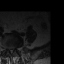CCS_severe_stenosis: (10, 48, 12, 54)
LFS_severe_stenosis: (14, 46, 16, 51)
LLS_severe_stenosis: (12, 47, 14, 52)
RFS_severe_stenosis: (7, 46, 9, 52)
RLS_severe_stenosis: (9, 47, 10, 53)
